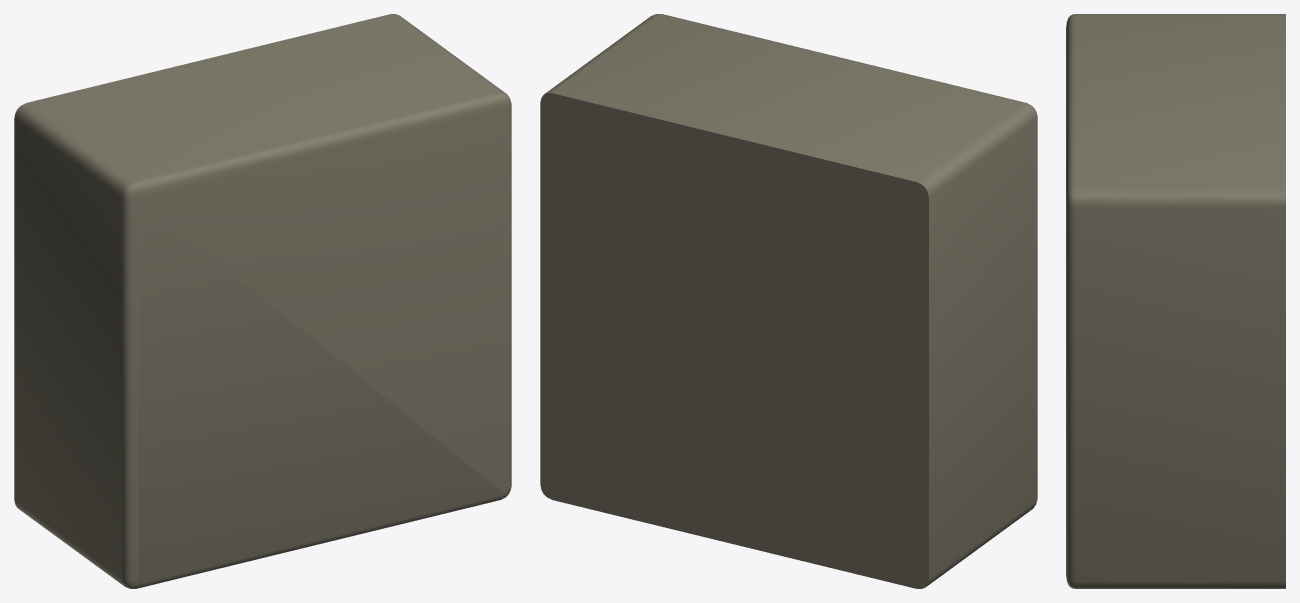
File: ButtonRoundedCorners.fbx
The picture shows the model from 3 angles, left to right: view 1: azimuth 30°, elevation 25°; view 2: azimuth 150°, elevation 25°; view 3: azimuth 270°, elevation 25°; orthographic projection. The views are drawn at different scales.
Visible parts, largest first — view 1: ButtonRounded; view 2: ButtonRounded; view 3: ButtonRounded.
Boxes of the visible parts, left/top/right/bottom form: ButtonRounded: left=14, top=14, right=511, bottom=588; ButtonRounded: left=540, top=14, right=1037, bottom=588; ButtonRounded: left=1066, top=14, right=1285, bottom=588.
Bounding box in the file's own units: 2 × 2 × 0.9981.
